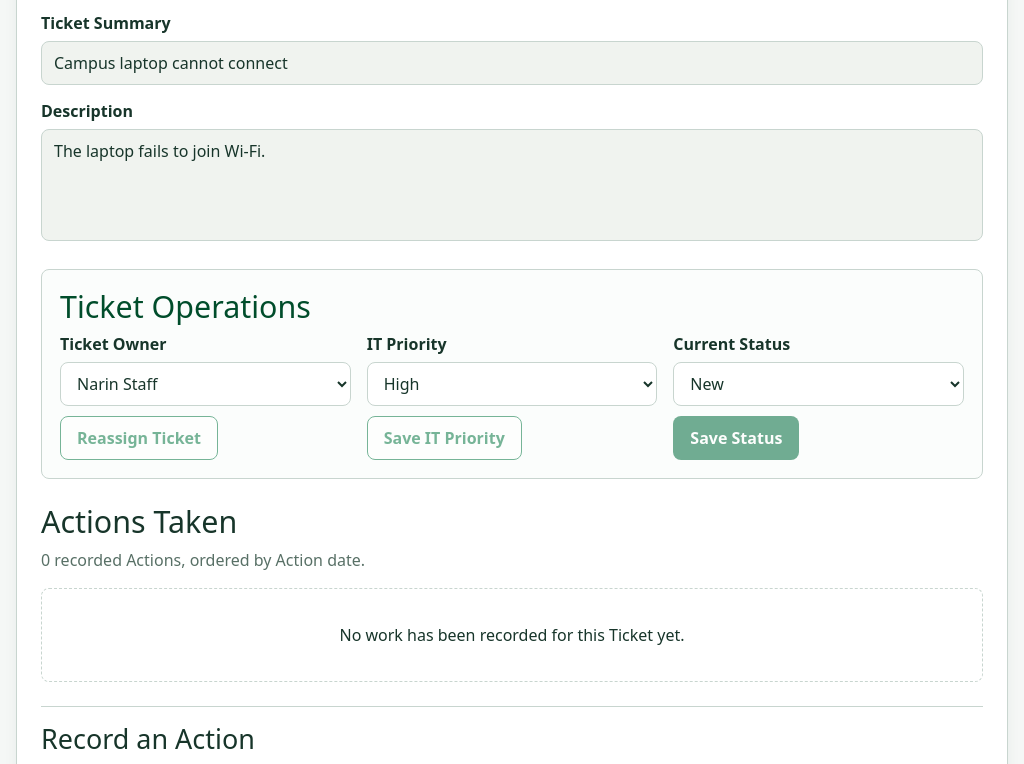
Test: Ticket workflow UI › shows safe feedback when a status update fails
(page scrolled)
Select "Open" in the dropdown labelled "Current Status" at (819,384), box left=673, top=362, right=964, bottom=406
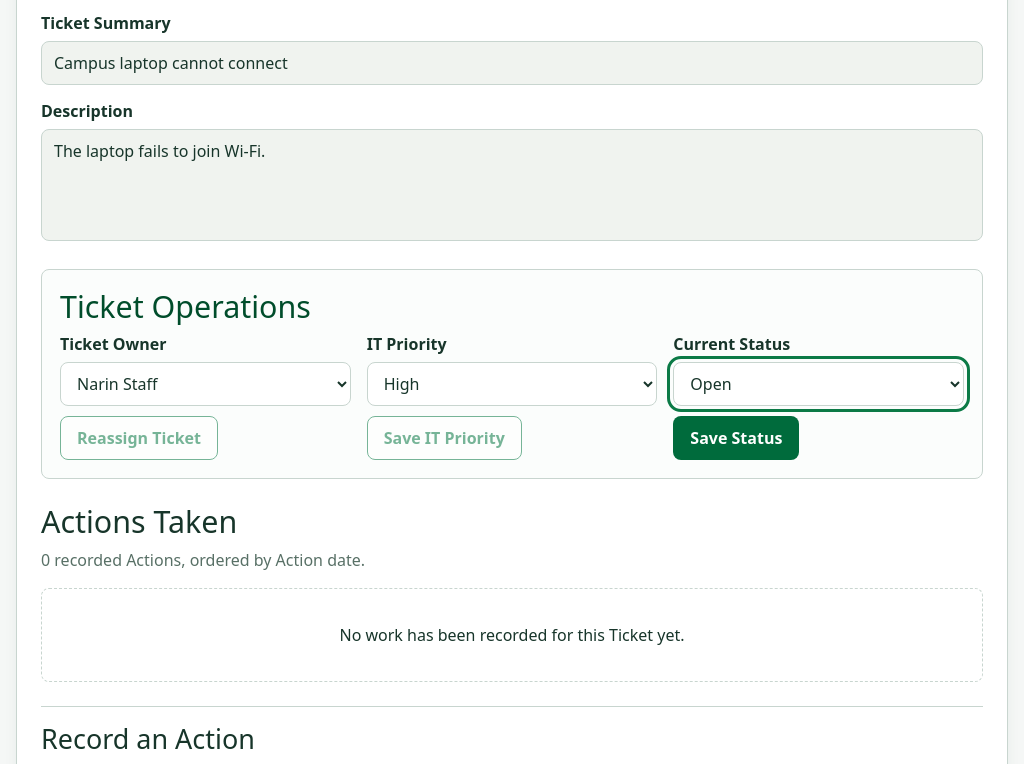
Click the button "Save Status".
click(736, 438)  # box left=673, top=416, right=799, bottom=460
(page scrolled)
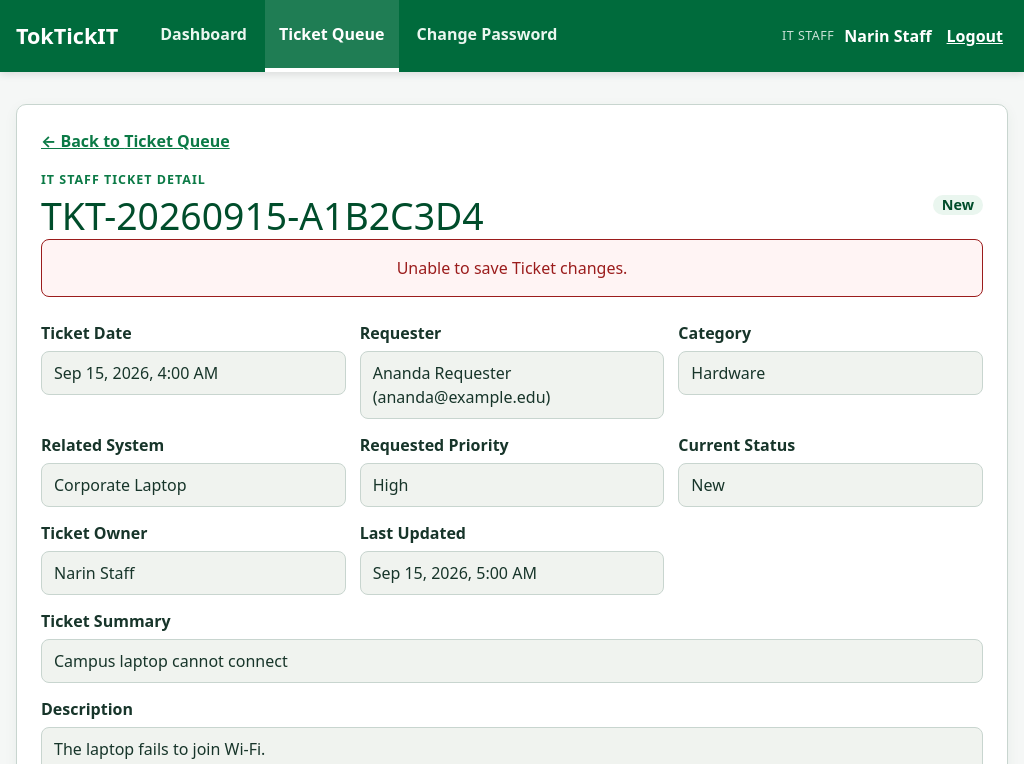
Now the message reads "Unable to save Ticket changes.", box left=397, top=256, right=627, bottom=278
